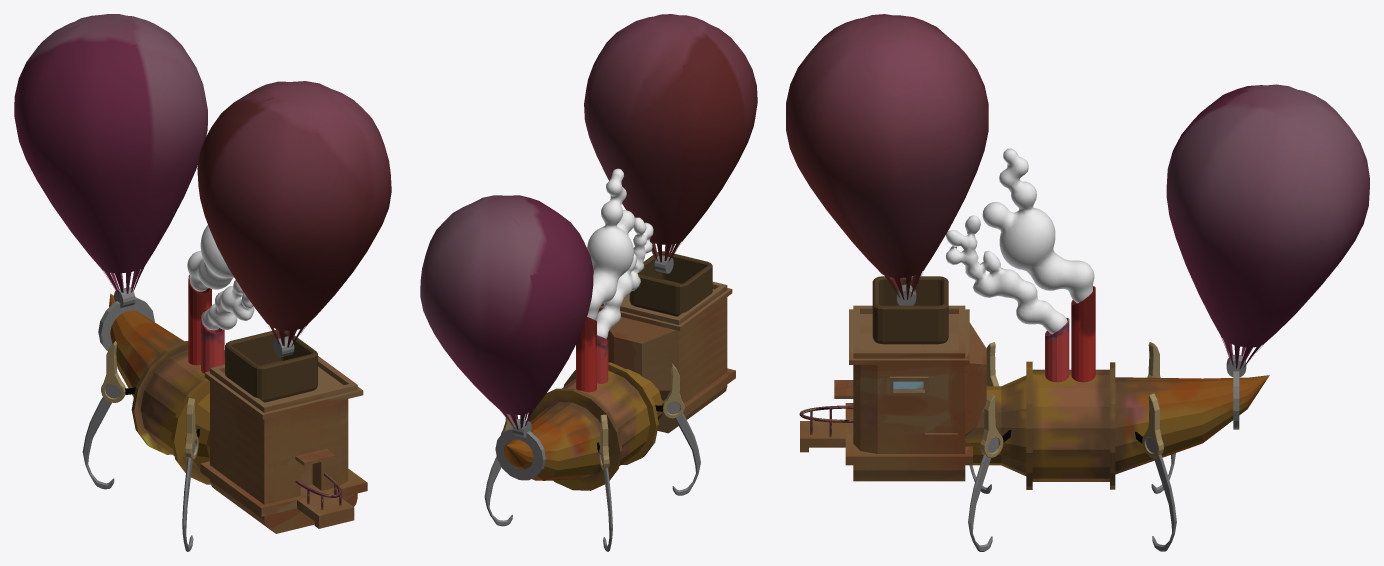
Rendered from engin_01.fbx.
3 views of the same model, side by side, from view 1: azimuth 30°, elevation 25°; view 2: azimuth 150°, elevation 25°; view 3: azimuth 270°, elevation 25° (orthographic). The views are drawn at different scales.
Visible parts, largest first — view 1: Ballon, Ballon.001, Cube, corp, Nacelle, fume, fume.001, chemine, patte.003, chemine.001, anneau_avant, haut.003 (+2 smaller); view 2: Ballon.001, Ballon, corp, Cube, fume, Nacelle, fume.001, chemine, anneau_avant, patte.004, haut.004, chemine.001 (+3 smaller); view 3: Ballon, Ballon.001, corp, Cube, fume, Nacelle, fume.001, chemine, chemine.001, patte.002, patte, haut.002 (+1 smaller).
Part boxes in pixels (x1,y1,x2,y2): Ballon: (14, 14, 207, 293); Ballon.001: (197, 81, 391, 347); Cube: (200, 356, 367, 533); corp: (109, 293, 224, 484); Nacelle: (225, 330, 317, 402); fume: (187, 225, 234, 291); fume.001: (202, 280, 254, 330); chemine: (188, 275, 211, 365); patte.003: (82, 384, 120, 489); chemine.001: (201, 310, 224, 373); anneau_avant: (98, 297, 154, 350); haut.003: (101, 341, 125, 402); Ballon.001: (584, 14, 757, 262); Ballon: (420, 195, 593, 429); corp: (504, 362, 663, 490); Cube: (598, 281, 735, 433); fume: (587, 168, 635, 320); Nacelle: (629, 251, 712, 316); fume.001: (595, 217, 653, 338); chemine: (576, 317, 596, 392); anneau_avant: (495, 428, 545, 480); patte.004: (667, 402, 700, 495); haut.004: (662, 363, 684, 418); chemine.001: (597, 335, 608, 383); Ballon: (1166, 84, 1369, 368); Ballon.001: (786, 14, 988, 299); corp: (965, 361, 1269, 489); Cube: (800, 305, 986, 481); fume: (982, 148, 1094, 303); Nacelle: (872, 276, 948, 344); fume.001: (946, 215, 1067, 334); chemine: (1071, 286, 1095, 382); chemine.001: (1045, 318, 1069, 382); patte.002: (968, 438, 998, 551); patte: (1146, 437, 1176, 551); haut.002: (980, 393, 1003, 457).
Bounding box in the file's own units: 362 × 977 × 1040.
